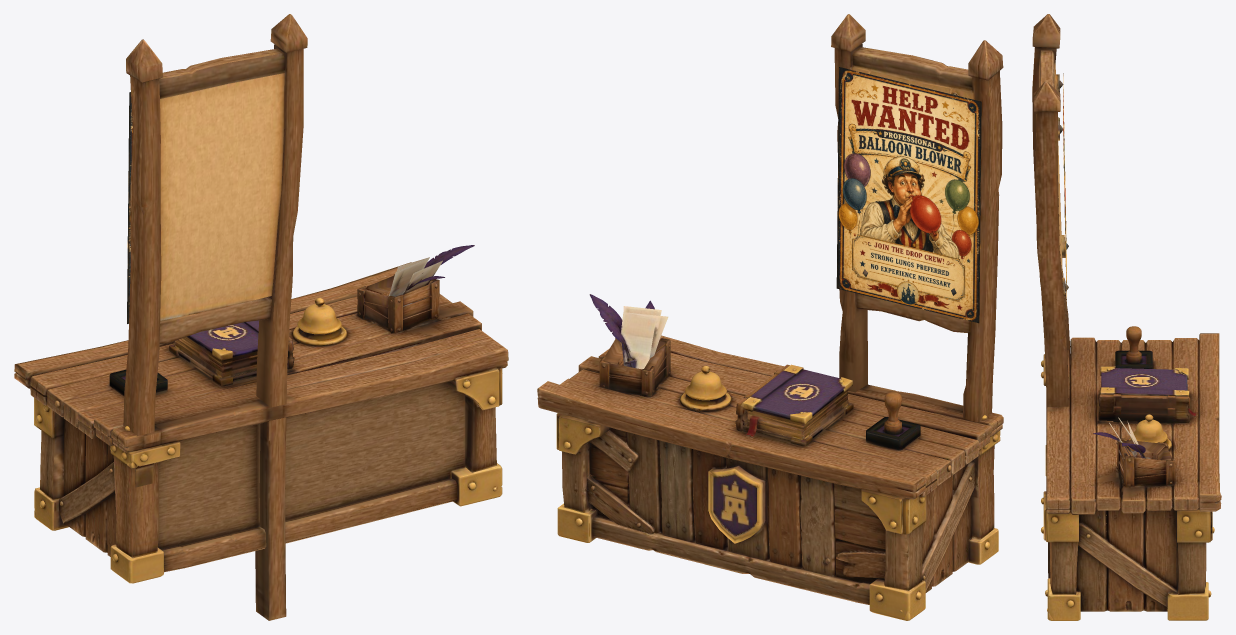
Rendered from helpDesk.glb.
3 views of the same model, side by side, from view 1: azimuth 30°, elevation 25°; view 2: azimuth 150°, elevation 25°; view 3: azimuth 270°, elevation 25° (orthographic). The views are drawn at different scales.
Visible parts, largest first — view 1: hedge7, hedge7.001; view 2: hedge7, hedge7.001; view 3: hedge7, hedge7.001.
Part boxes in pixels (x1=…): hedge7: x1=14, y1=245, x2=508, y2=583; hedge7.001: x1=123, y1=14, x2=307, y2=620; hedge7: x1=537, y1=294, x2=1003, y2=620; hedge7.001: x1=831, y1=14, x2=1003, y2=422; hedge7: x1=1041, y1=326, x2=1221, y2=620; hedge7.001: x1=1032, y1=14, x2=1070, y2=578.
Size of the model in its own units: 3.05 by 4.42 by 1.47.
Materials: 2 (2 with a texture image).
